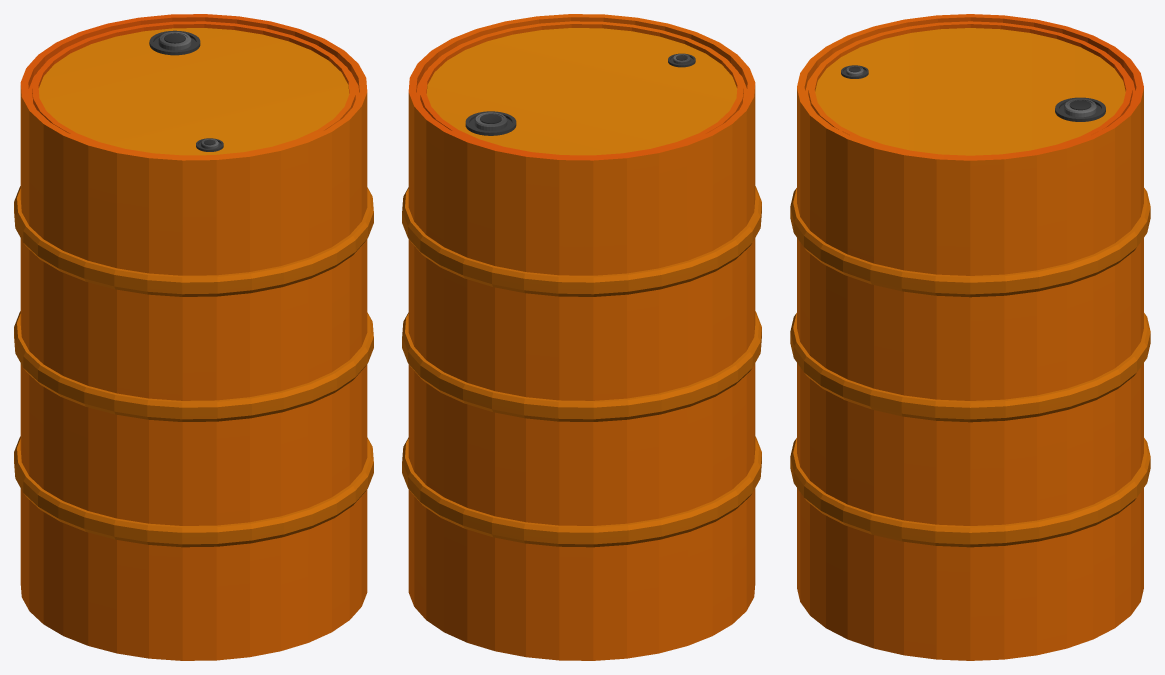
The model's file is Industrial Barrel Orange.fbx.
3 renders of one model, left to right at view 1: azimuth 30°, elevation 25°; view 2: azimuth 150°, elevation 25°; view 3: azimuth 270°, elevation 25°, orthographic.
Visible parts, largest first — view 1: Industrial Barrel #5; view 2: Industrial Barrel #5; view 3: Industrial Barrel #5.
Boxes of the visible parts, x1=… form: Industrial Barrel #5: x1=14, y1=14, x2=373, y2=660; Industrial Barrel #5: x1=402, y1=14, x2=761, y2=660; Industrial Barrel #5: x1=790, y1=14, x2=1150, y2=660.
Bounding box in the file's own units: 428 × 280 × 280.
1 material, 1 textured.
